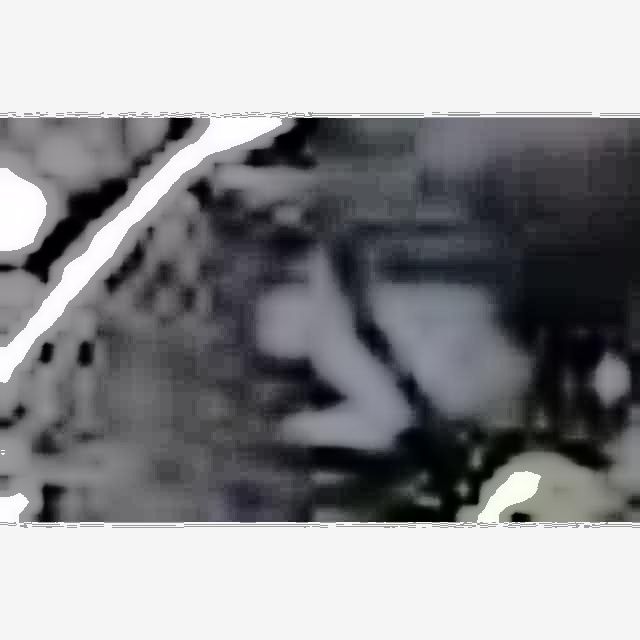pakai: (183, 183, 549, 445)
